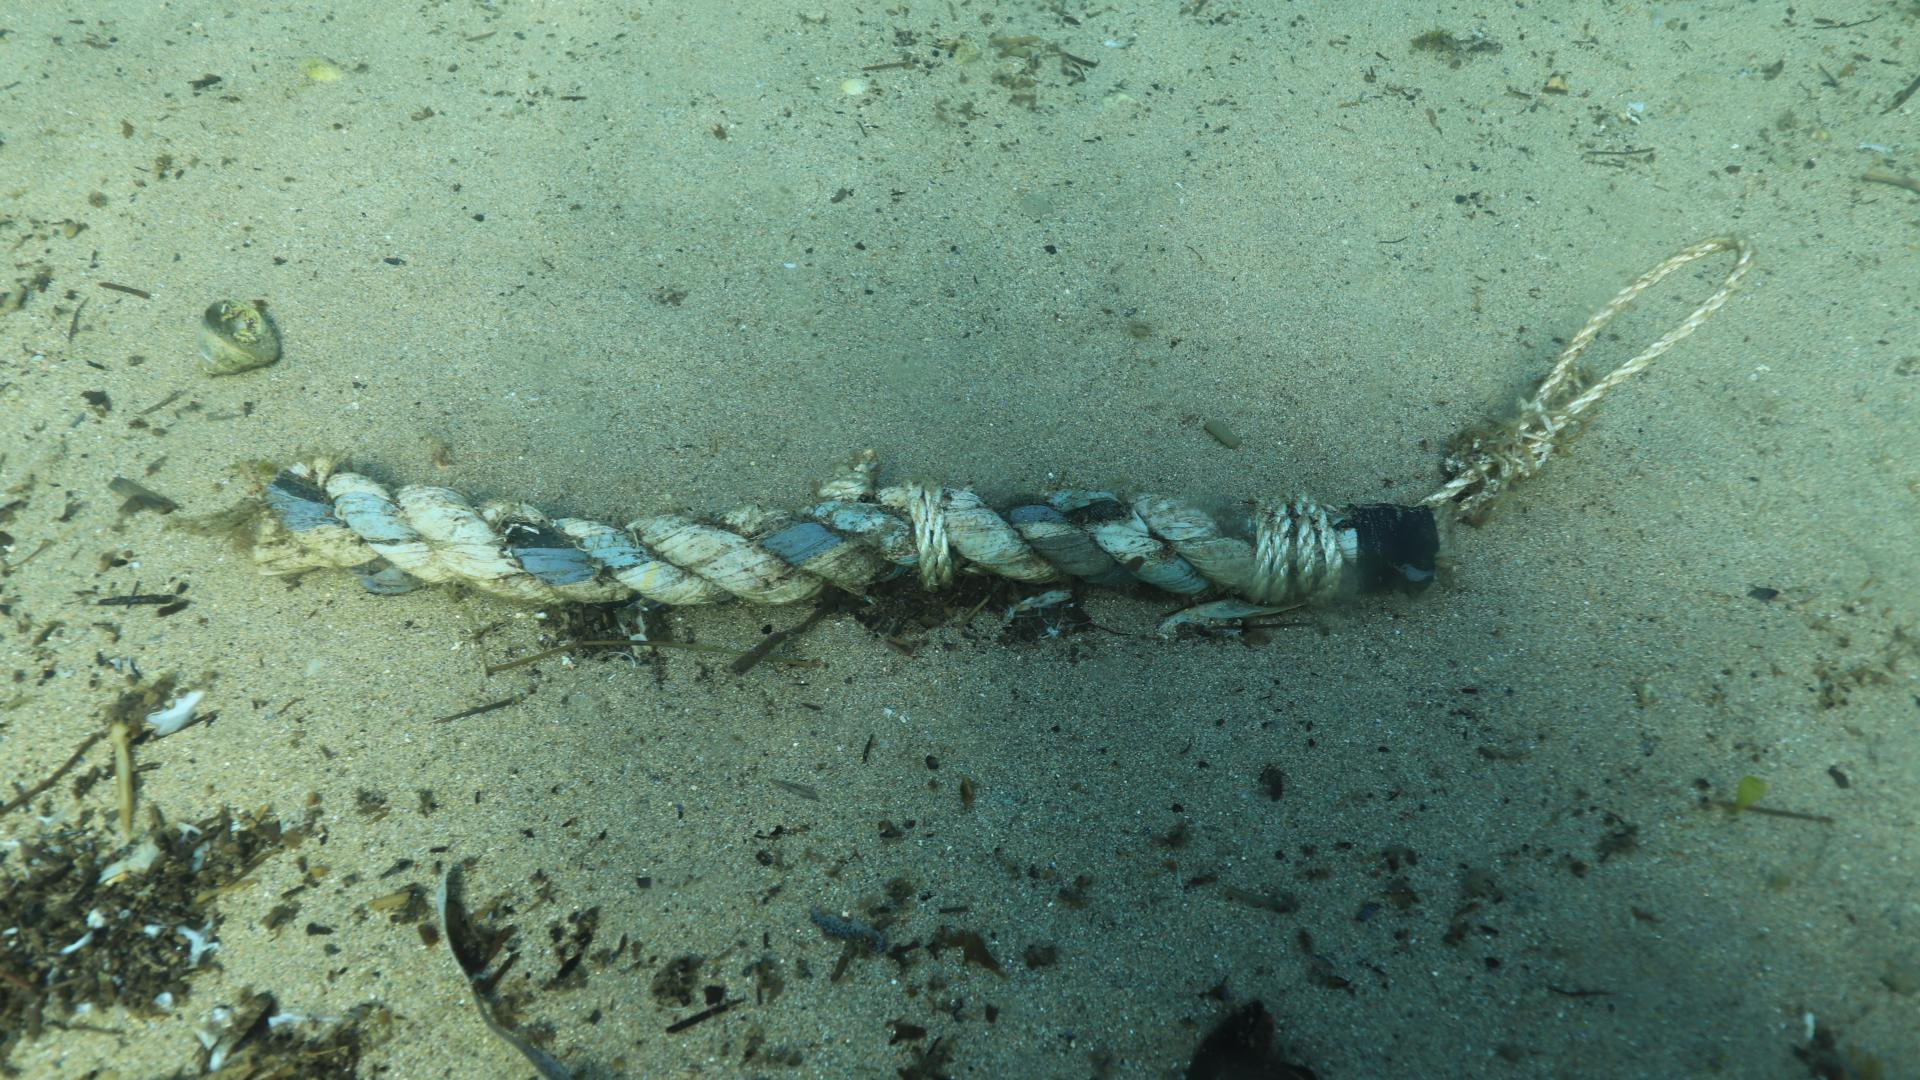bundle of ropes: (294, 463, 1443, 608), (1448, 232, 1760, 522)
